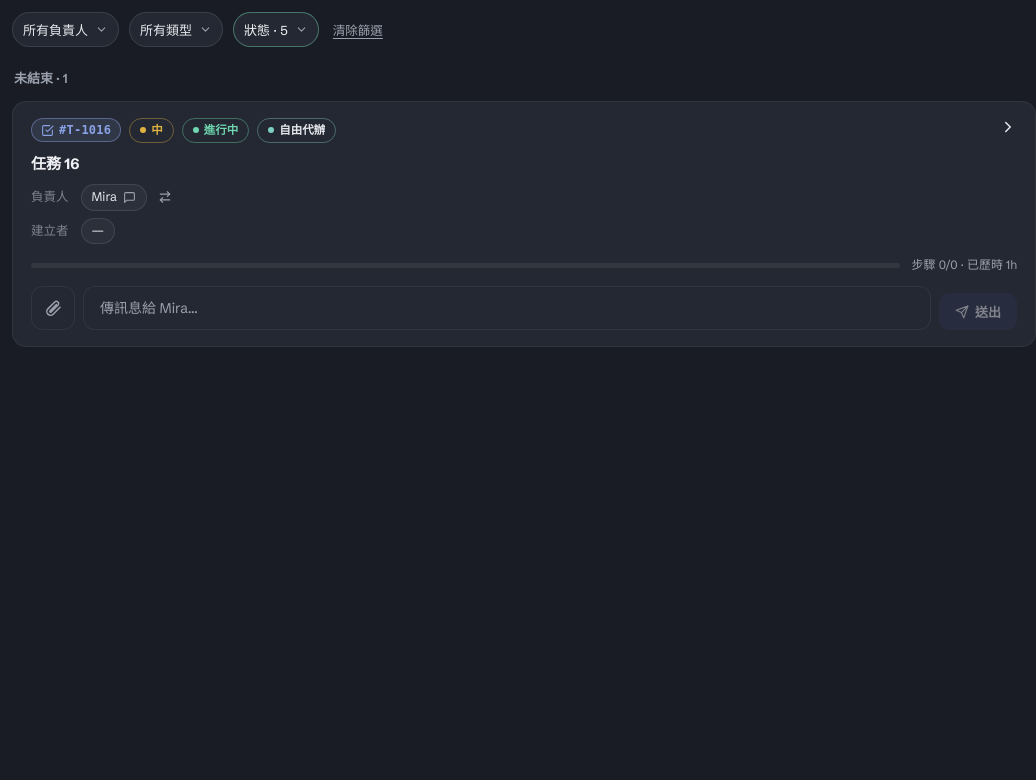
Test: TasksPage executor seed (#tasks/executor/<id>, T-dfae) › the seed is ONE-SHOT: the hash normalises back to #tasks and the filters stay editable
The image size is (1036, 780).
Click the button with test id "clear-filters": point(358, 30) x1=329 y1=14 x2=387 y2=45
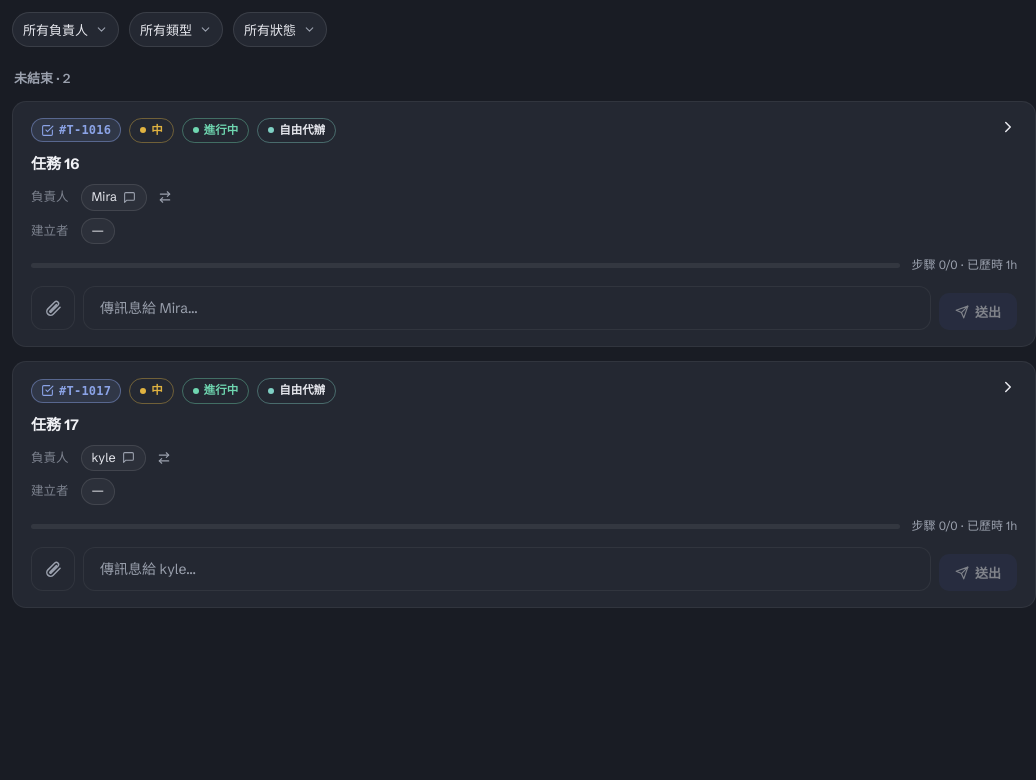
Expected: the button "#T-1017 中 進行中 自由代辦 任務 17 負責人 kyle 建立者 — 步驟 0/0 · 已歷時 1h 送出" is shown, x1=12 y1=361 x2=1035 y2=608
